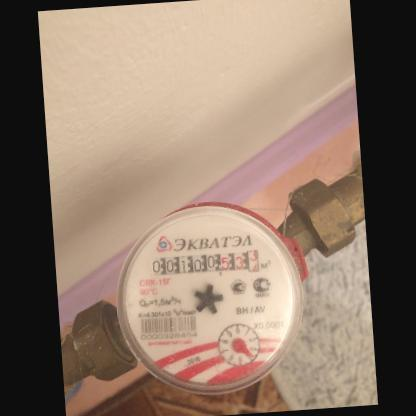digital_screen: (147, 249, 221, 281)
